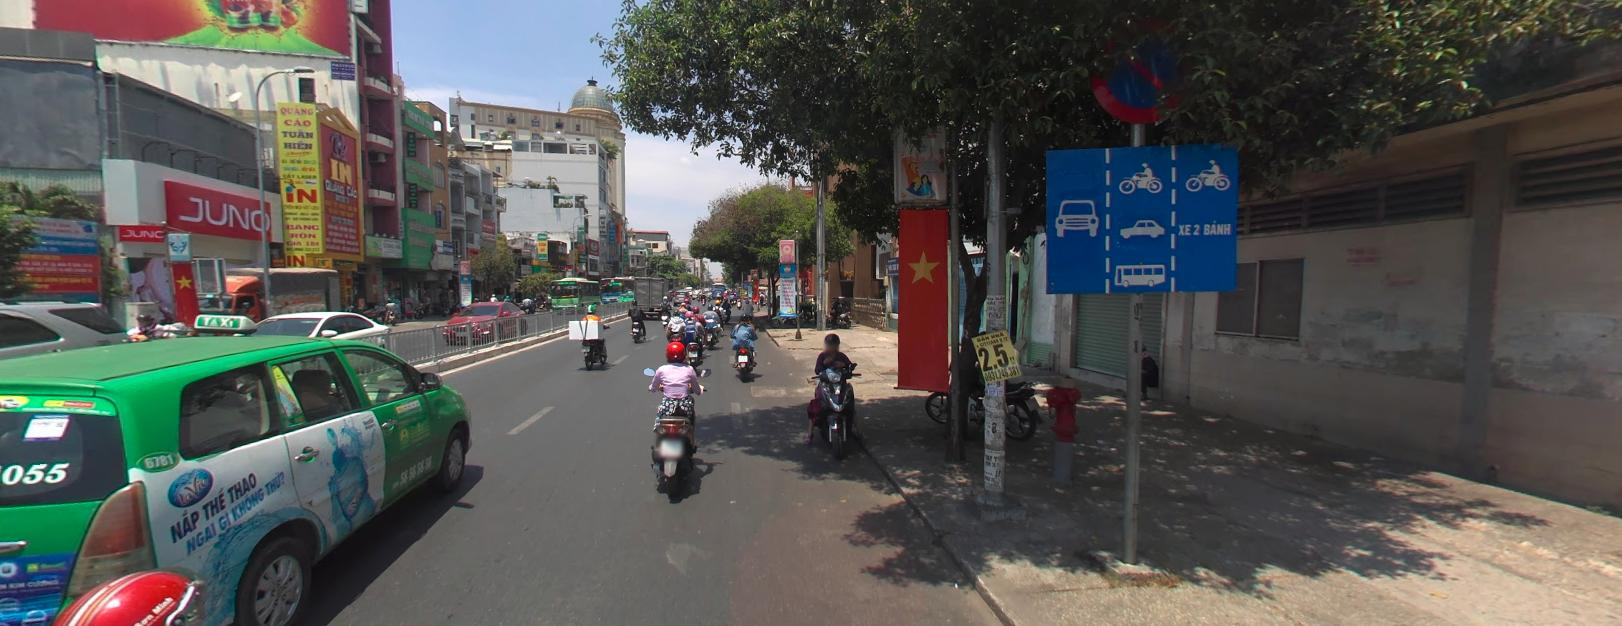Cam dung va do: (1082, 5, 1193, 127)
